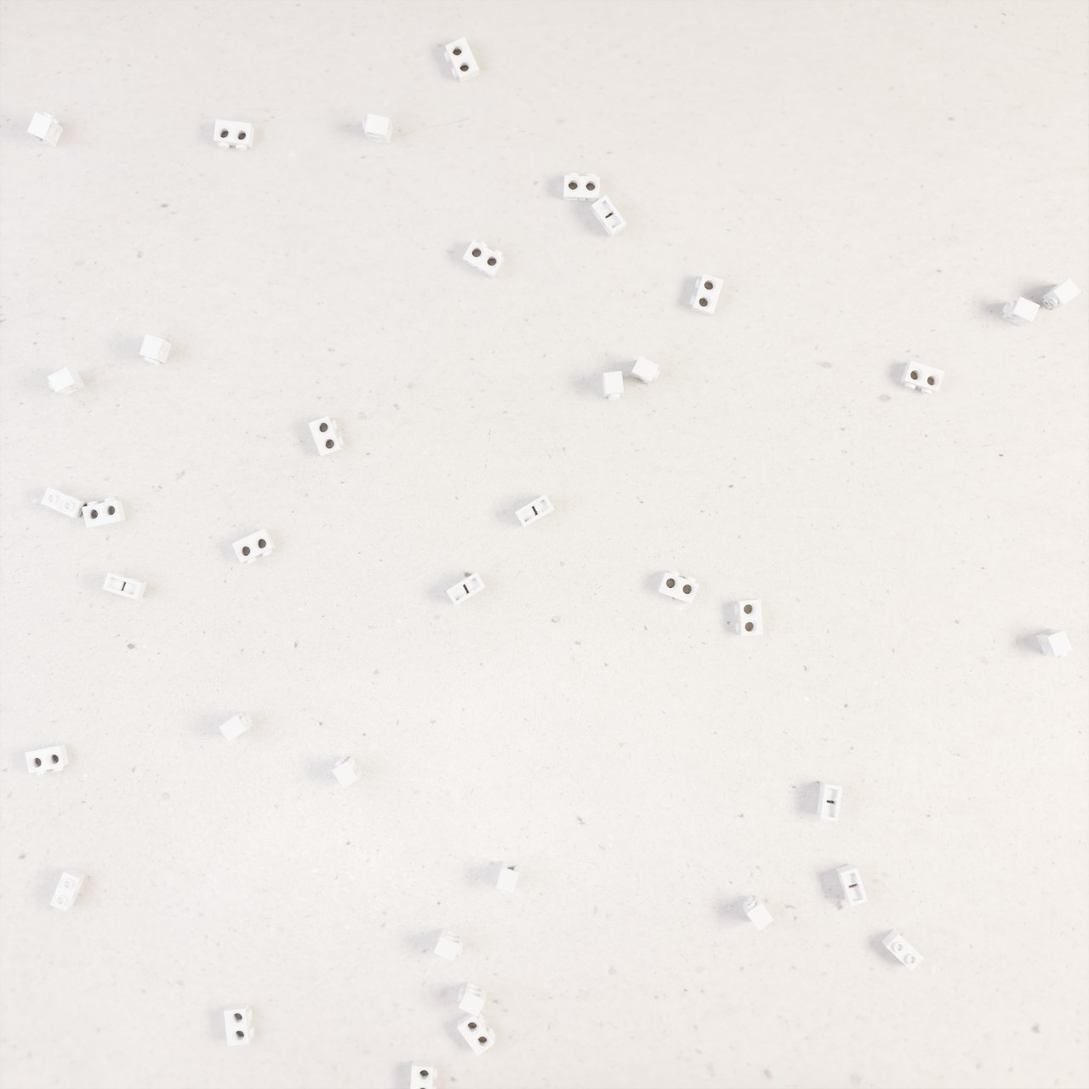lego: (457, 1010, 496, 1056), (882, 929, 924, 971), (444, 37, 480, 83), (463, 240, 504, 279), (50, 868, 86, 912), (232, 529, 276, 565), (900, 360, 945, 395), (591, 195, 627, 238), (308, 416, 344, 457), (690, 274, 724, 316), (657, 570, 699, 604), (41, 487, 87, 518), (836, 863, 868, 907), (25, 744, 69, 775), (82, 497, 126, 528), (446, 572, 486, 606), (515, 494, 555, 528), (213, 119, 254, 151), (27, 112, 63, 148), (1042, 278, 1081, 311), (102, 572, 147, 600), (224, 1004, 254, 1046), (742, 895, 774, 931), (1002, 297, 1040, 327), (47, 367, 85, 396), (457, 981, 487, 1017), (1036, 628, 1072, 658), (563, 173, 600, 202), (734, 599, 763, 636), (219, 711, 253, 742), (817, 781, 842, 822), (139, 334, 172, 365), (332, 756, 363, 789), (434, 928, 464, 962), (363, 113, 393, 145), (630, 356, 660, 385), (496, 861, 520, 895), (410, 1060, 437, 1089), (602, 371, 624, 400)
